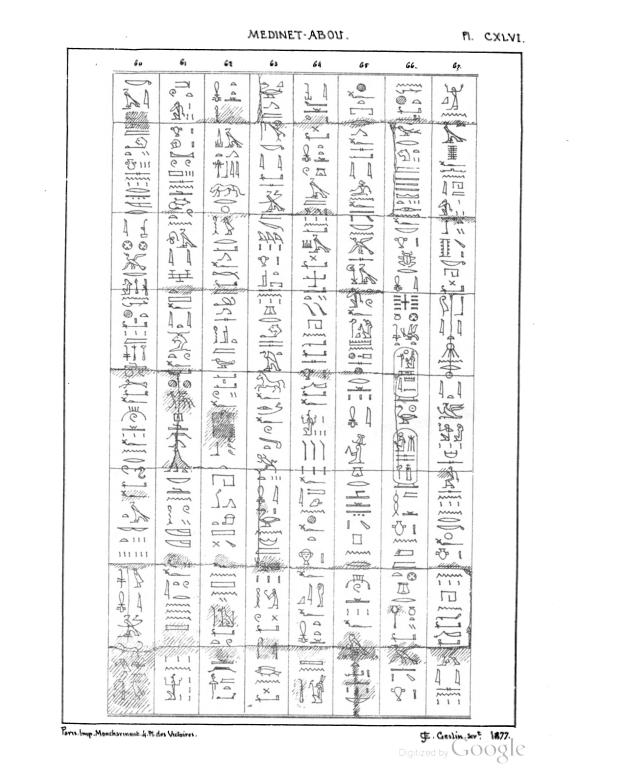circle: (389, 425, 422, 491), (390, 346, 424, 402)
